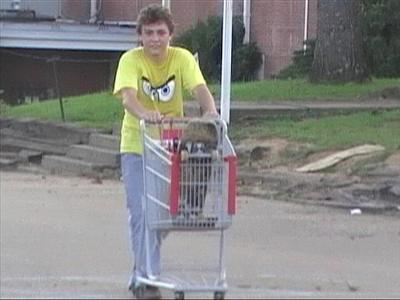person: (111, 4, 225, 300)
